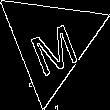M_NW: (22, 10, 80, 73)
